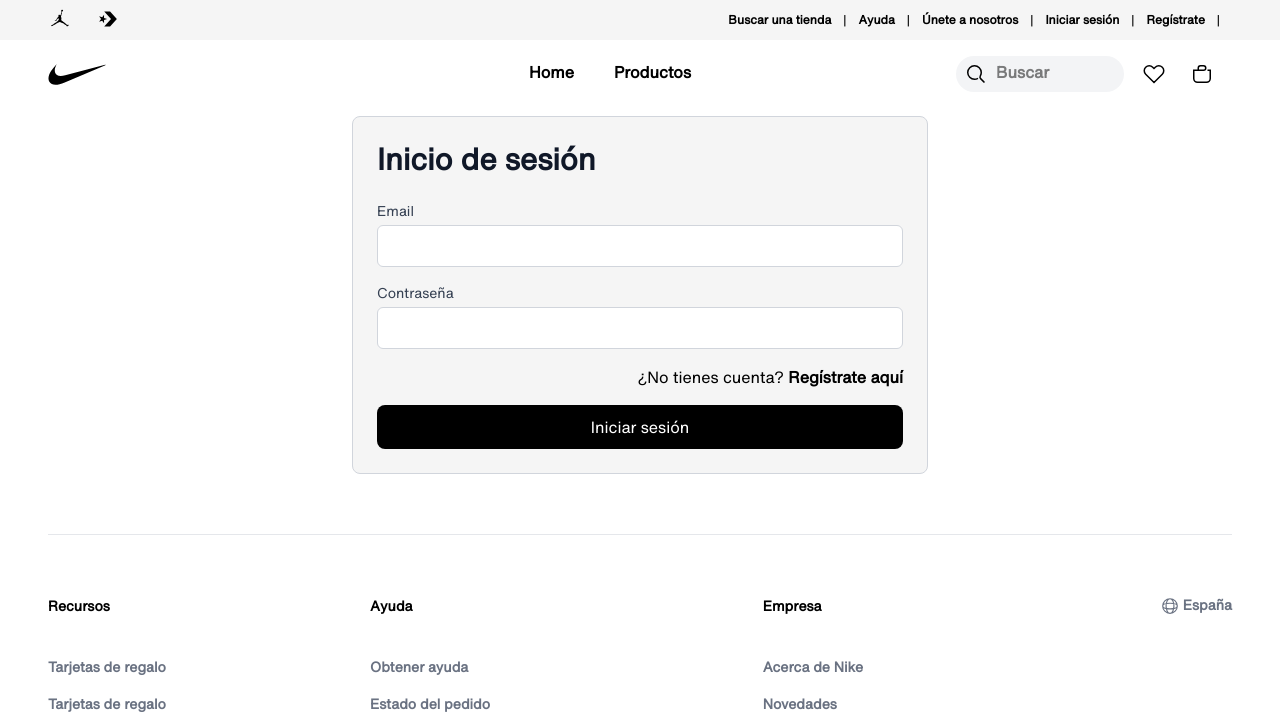
Test: Login de usuario › Muestra error si los campos están vacíos
The width and height of the screenshot is (1280, 715).
Click the submit button. click: (640,427)
box: [377,405,903,449]
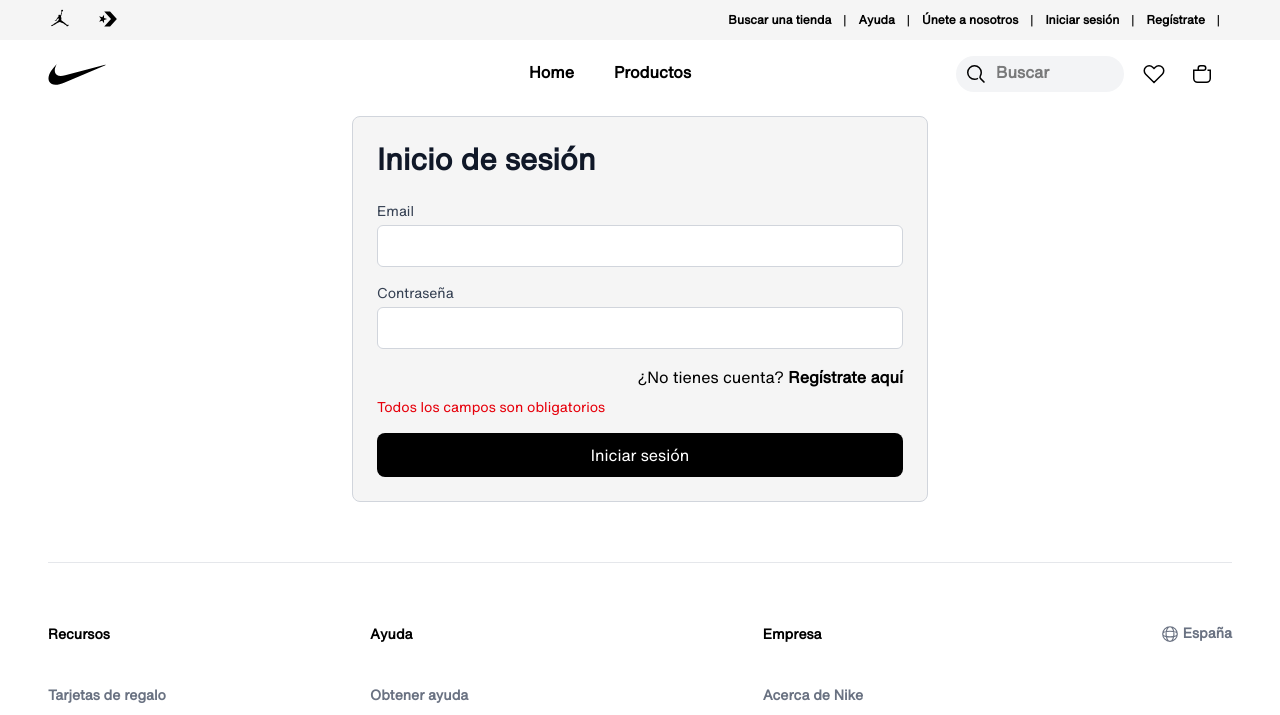
Expected: the text "Todos los campos son obligatorios" is shown, [377,396,605,417]
